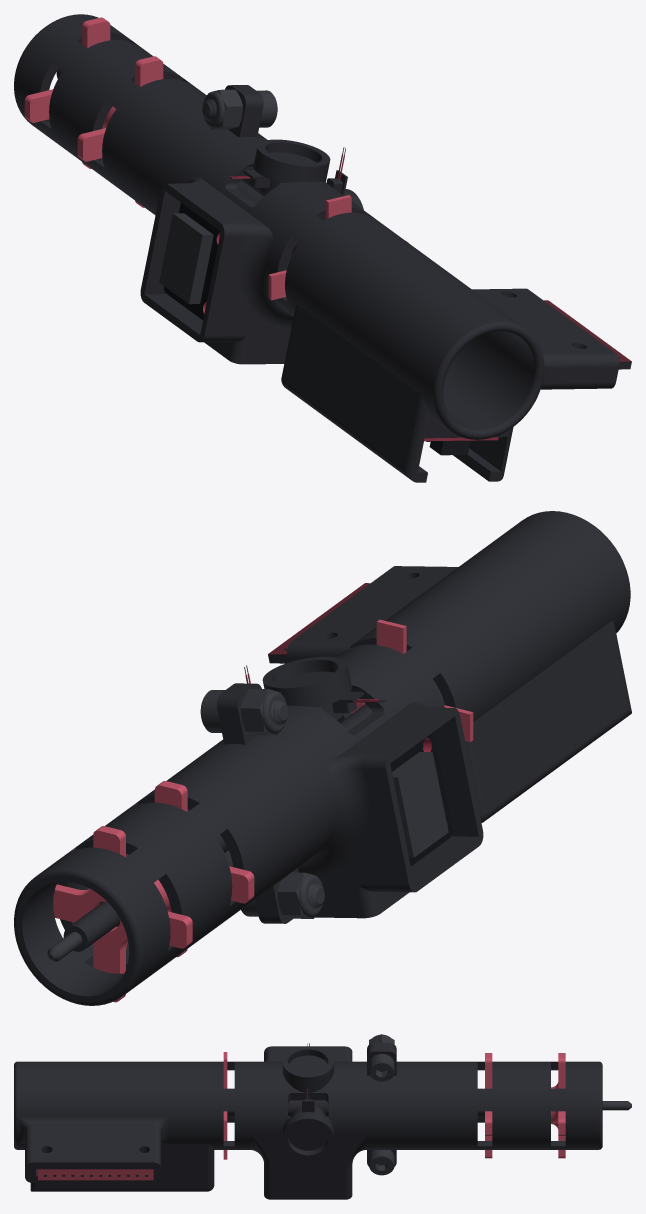
The model's file is isowrite.glb.
3 views of the same model, one above another, from view 1: azimuth 30°, elevation 25°; view 2: azimuth 150°, elevation 25°; view 3: azimuth 270°, elevation 25° (orthographic). The views are drawn at different scales.
Parts seen in each view (by area): view 1: Part 1 (×3), Part 2, Motor:1__Body1, PIM452 PCB:1__Body1, Cavity1, 2800-0004-0010_90128A207; view 2: Part 1 (×6), Part 2, Motor:1__Body1, Cavity1 (×2), PIM452 PCB:1__Body1, 2800-0004-0010_90128A207; view 3: Part 2, Part 1 (×6), 2800-0004-0010_90128A207 (×2).
Part boxes in pixels (x1,y1,x2,y2): Part 1 (×3): (14,14,501,482); Part 2: (81,14,619,481); Motor:1__Body1: (159,213,213,304); PIM452 PCB:1__Body1: (164,203,220,319); Cavity1: (203,89,242,129); 2800-0004-0010_90128A207: (202,90,277,127); Part 1 (×6): (47,511,631,1005); Part 2: (14,511,552,1005); Motor:1__Body1: (392,752,448,857); Cavity1 (×2): (241,689,323,918); PIM452 PCB:1__Body1: (390,732,452,866); 2800-0004-0010_90128A207: (200,690,288,732); Part 2: (14,1047,602,1199); Part 1 (×6): (14,1042,631,1184); 2800-0004-0010_90128A207 (×2): (369,1054,394,1175).
Size of the model in its own units: 0.058 by 0.0459 by 0.168.
